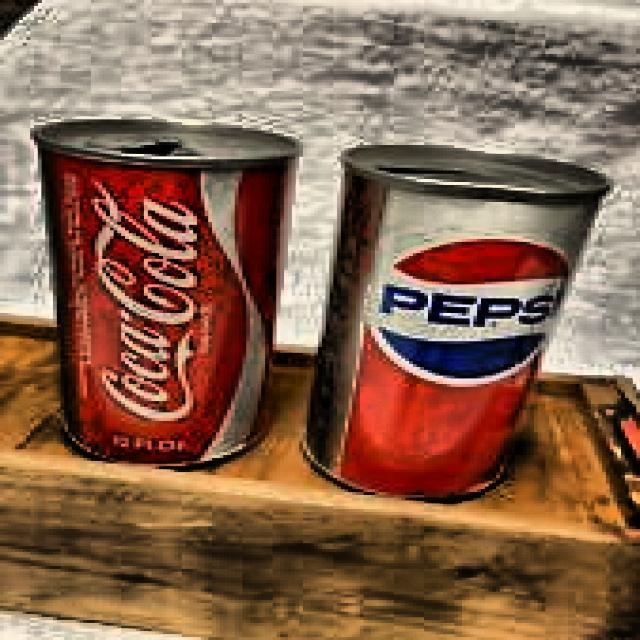Cans: (302, 107, 617, 507), (18, 91, 300, 480)
